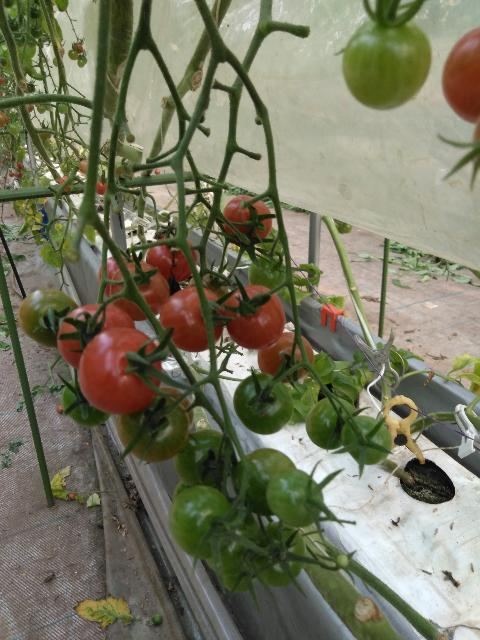l_fully_ripened: (77, 327, 162, 416), (58, 304, 136, 370), (159, 286, 225, 353), (224, 284, 285, 350), (440, 26, 479, 126), (110, 261, 170, 321), (221, 196, 273, 245), (146, 235, 197, 284), (98, 254, 144, 299)
l_green: (342, 13, 432, 112), (169, 485, 238, 560), (116, 394, 190, 463), (232, 447, 298, 516), (173, 428, 238, 487), (233, 374, 294, 435), (18, 289, 81, 347), (265, 468, 323, 528), (255, 522, 305, 587), (340, 415, 393, 466), (306, 397, 356, 451), (61, 378, 113, 428), (205, 525, 257, 575), (248, 255, 287, 294), (222, 556, 259, 593), (336, 555, 349, 567)
l_half_ripened: (257, 331, 315, 382), (186, 270, 229, 314)
